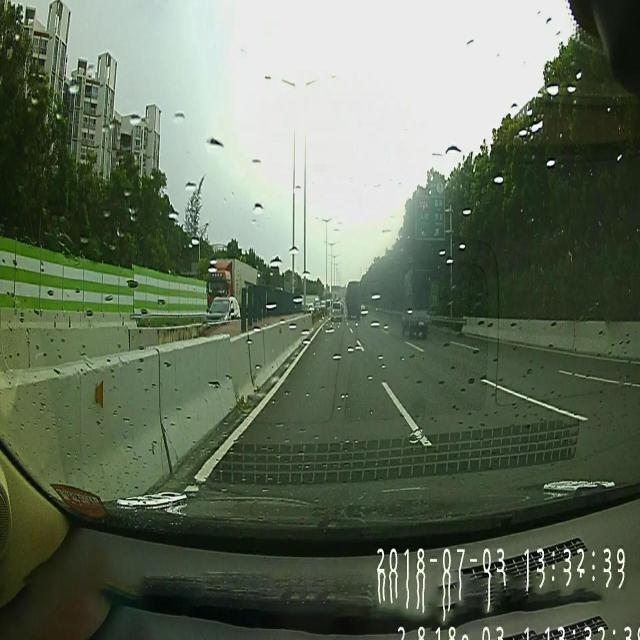car: (202, 297, 239, 326), (331, 298, 342, 323)
